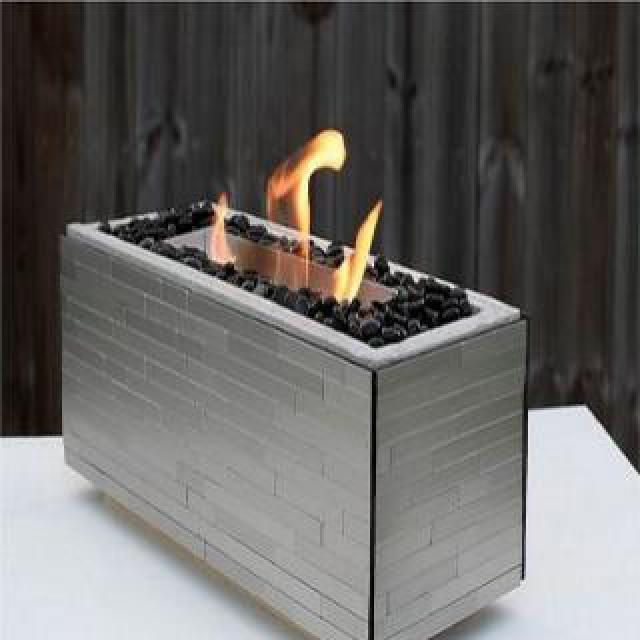Fire: (208, 98, 376, 318)
